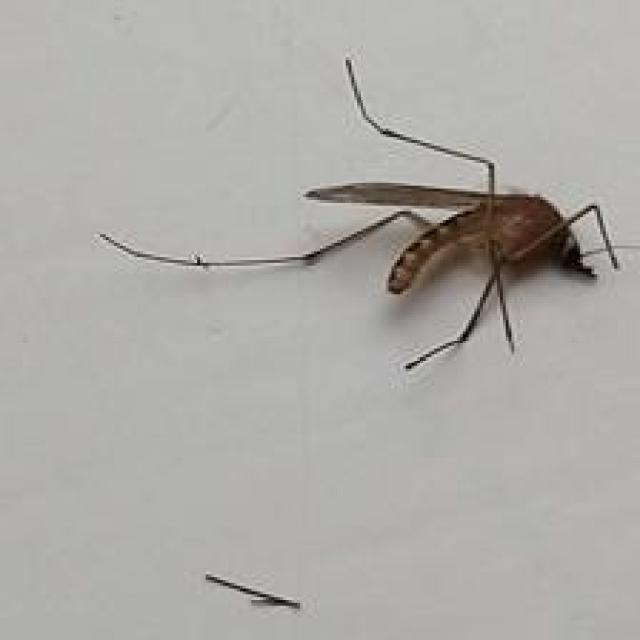Culex: (205, 572, 302, 612)
